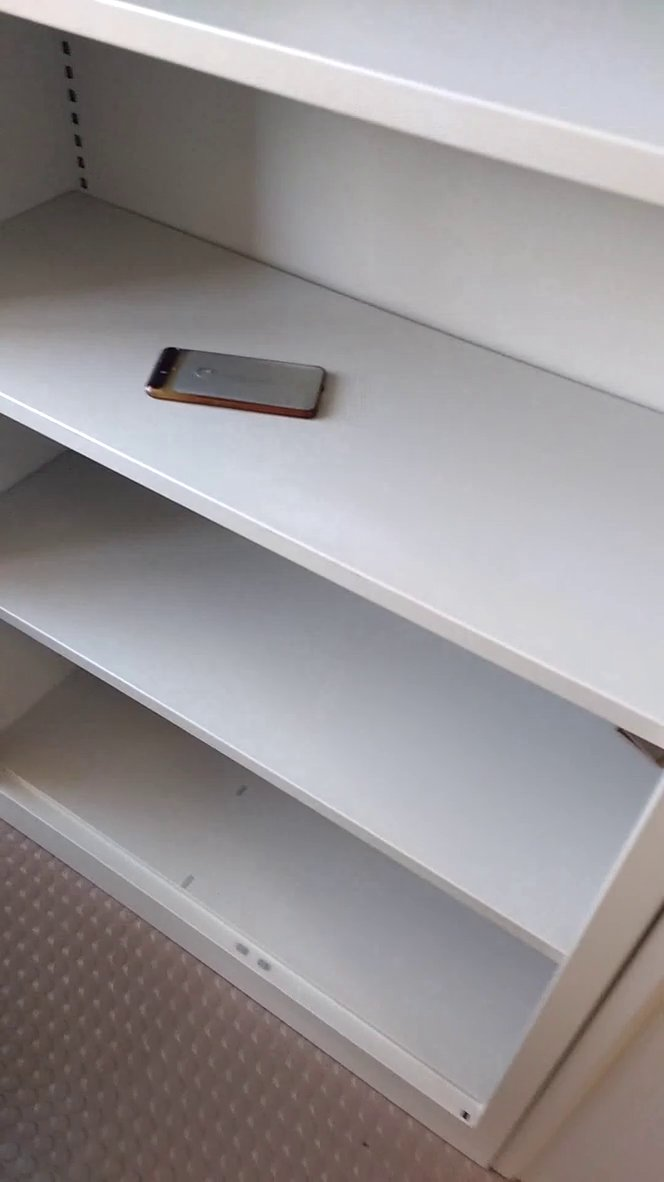phone: (141, 337, 336, 428)
